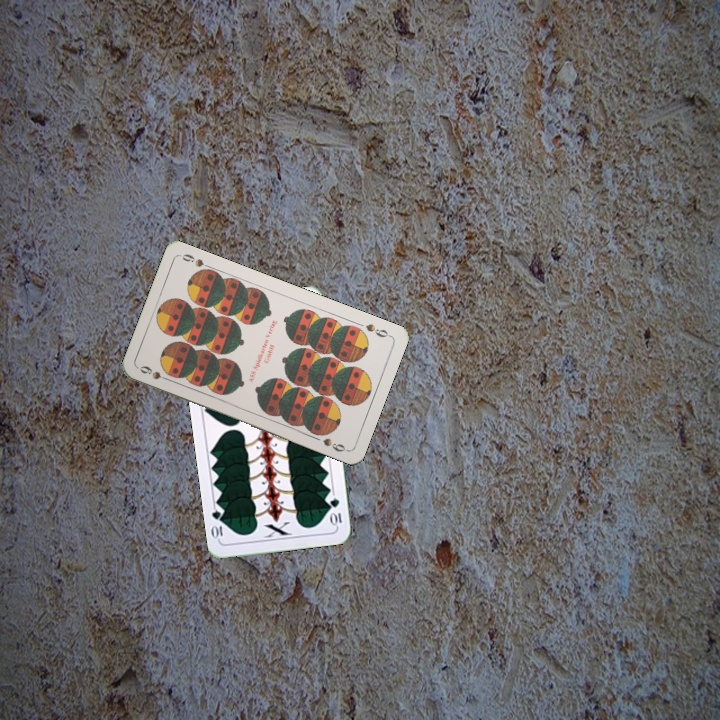G10: (326, 494, 344, 528)
S9: (136, 362, 174, 384), (361, 320, 393, 340)
